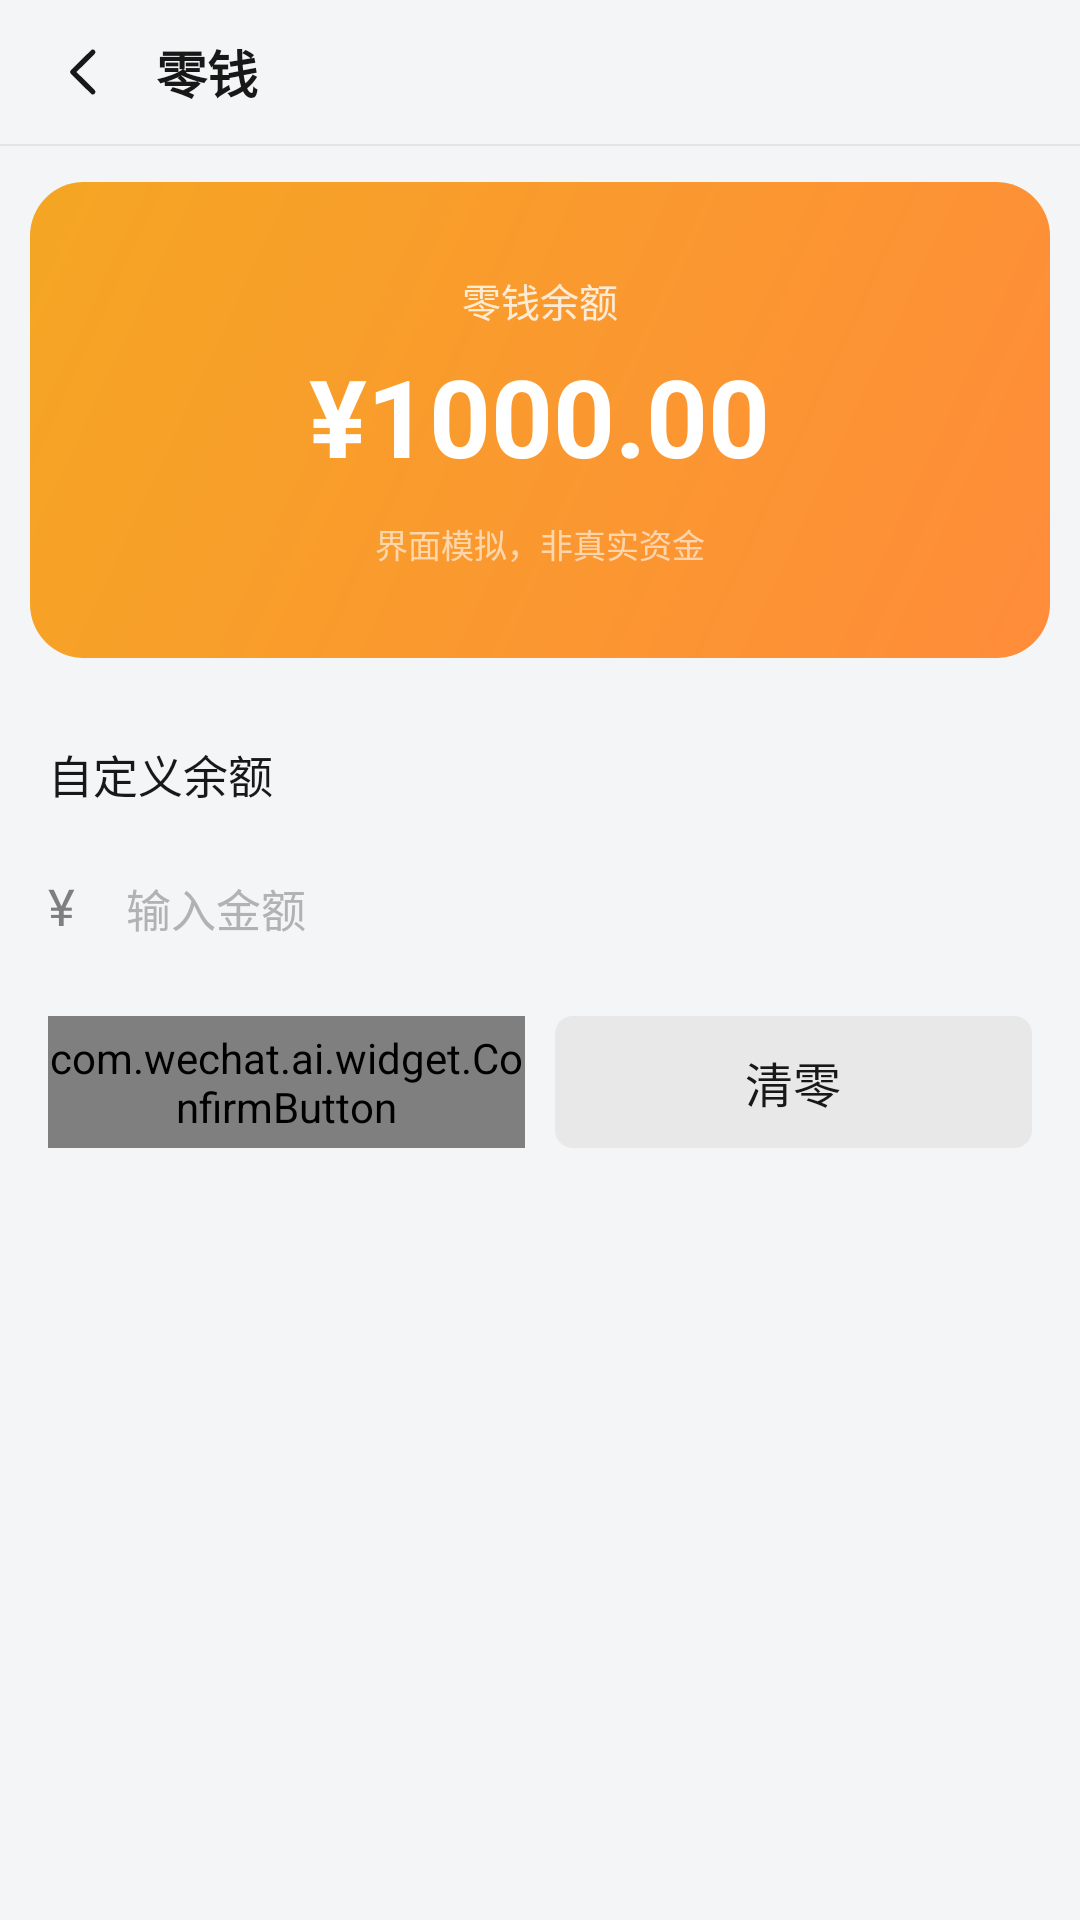

Named icons in this screenshot (1080*1920) and their bounding boxes, (x1, y1, x2, y2):
返回: (70, 49, 96, 95)
